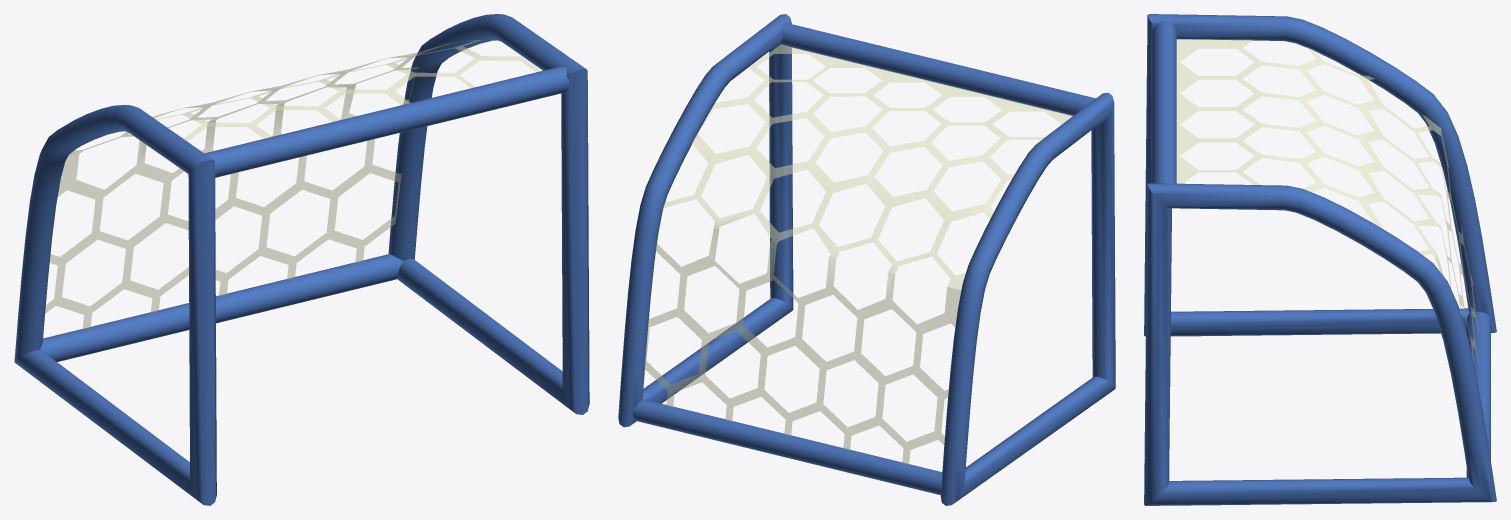
The picture shows the model from 3 angles, left to right: view 1: azimuth 30°, elevation 25°; view 2: azimuth 150°, elevation 25°; view 3: azimuth 270°, elevation 25°; orthographic projection. The views are drawn at different scales.
Visible parts, largest first — view 1: Line002, Plane001; view 2: Line002, Plane001; view 3: Line002, Plane001.
Part boxes in pixels (left/top/right/bottom): Line002: left=14, top=14, right=589, bottom=505; Plane001: left=45, top=40, right=540, bottom=329; Line002: left=618, top=14, right=1115, bottom=505; Plane001: left=644, top=44, right=1072, bottom=465; Line002: left=1144, top=14, right=1496, bottom=505; Plane001: left=1176, top=39, right=1478, bottom=365.
Size of the model in its own units: 56.13 by 46.7 by 46.58.
